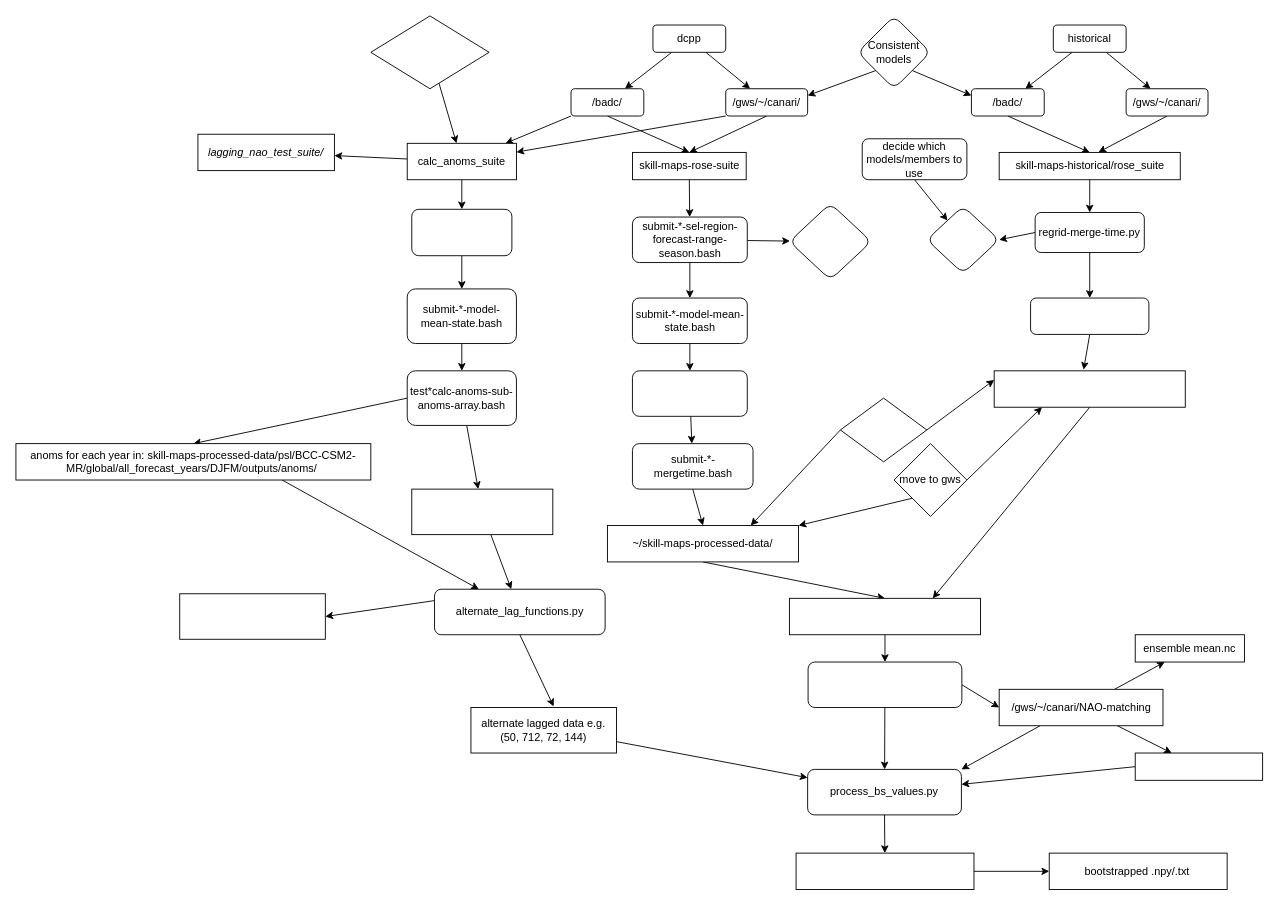
The diagram is 1279 pixels wide and 905 high, and some of its shapes have lost their labels. Each missing label, with the centre of its shape:
"/gws/~/canari/bootstrapping" goes at point 884,871.
"alternate_lag path" goes at point 429,52.
"alternate_lag_suite" goes at point 482,511.
"check times" goes at point 883,429.
"ensemble-members.nc" goes at point 1198,766.
"full period data e.g. (50, 178, 11, 72, 144)" goes at point 252,616.
"nao_matching_seasons.py" goes at point 884,684.
"process-regrid-data.py" goes at point 1089,315.
"submit-*-sub-MMS.bash" goes at point 689,393.
"test*sel-season-member.bash" goes at point 461,232.
"update models" goes at point 962,239.
"update new models" goes at point 830,241.
"~/skill-maps-processed-data/historical/" goes at point 1089,388.
"~/skill-maps/rose-suite-matching" goes at point 885,616.
